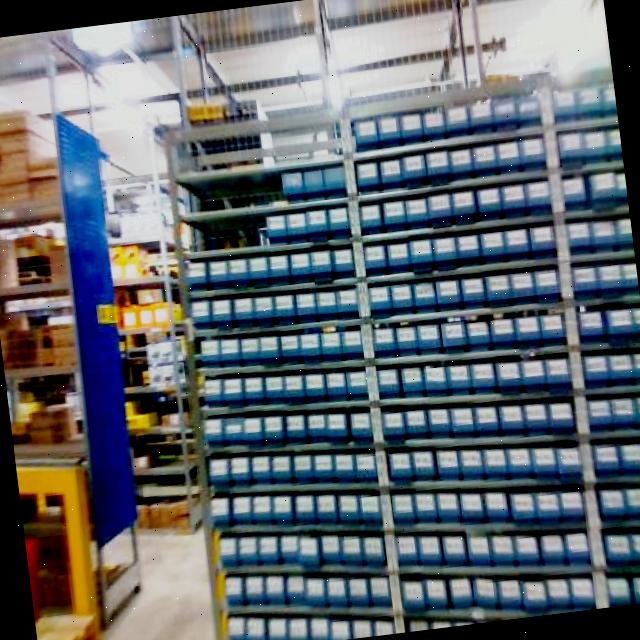pallet: (149, 53, 640, 640), (0, 207, 211, 551), (0, 63, 114, 640), (15, 444, 108, 640), (0, 79, 64, 210), (35, 605, 102, 640)
